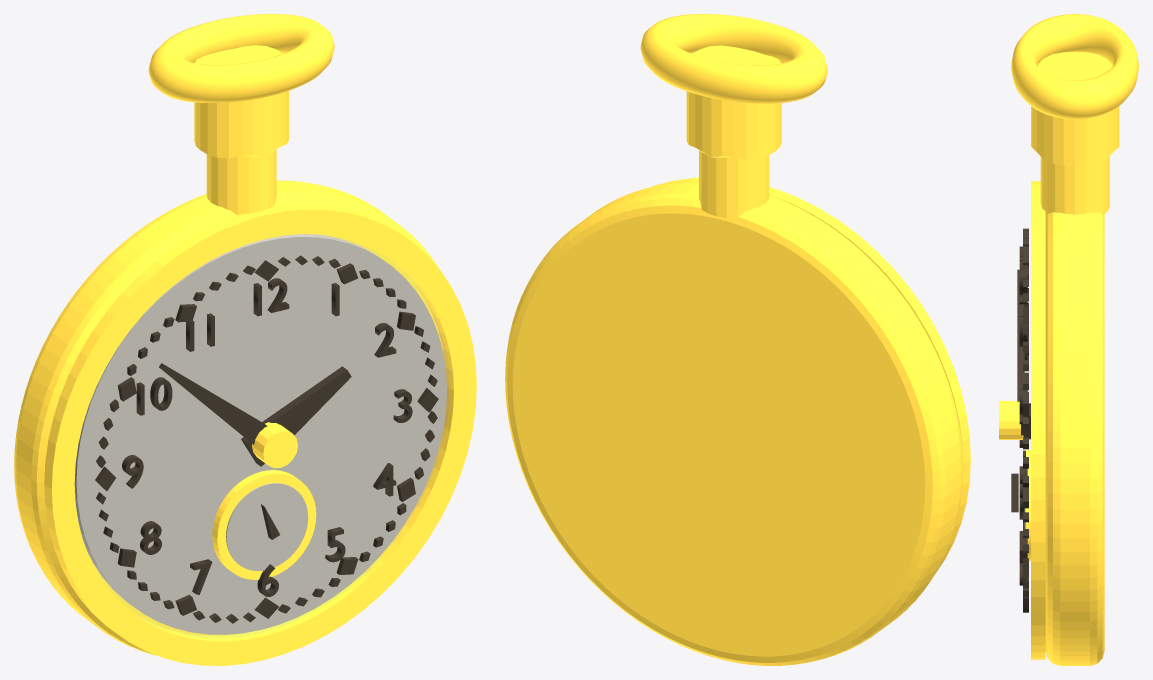
The model's file is pocket_watch.glb.
3 renders of one model, left to right at view 1: azimuth 30°, elevation 25°; view 2: azimuth 150°, elevation 25°; view 3: azimuth 270°, elevation 25°, orthographic. The views are drawn at different scales.
Parts seen in each view (by area): view 1: Dial, Bezel, CaseBody, Bail, Crown, SubDial, Neck, SubBezel, HourHand, MinuteHand, Pivot, Num_10 (+2 smaller); view 2: CaseBody, Bail, Crown, Bezel, Neck; view 3: CaseBody, Bail, Bezel, Crown, Neck, Pivot, MinuteHand, SubBezel, SubHand, Num_12.
Boxes of the visible parts, box(x1,y1,x2,y2) form: Dial: box(74, 234, 446, 634); Bezel: box(44, 204, 476, 665); CaseBody: box(14, 180, 445, 655); Bail: box(148, 14, 334, 102); Crown: box(194, 45, 288, 158); SubDial: box(226, 483, 308, 570); Neck: box(206, 149, 276, 215); SubBezel: box(212, 470, 316, 579); HourHand: box(241, 366, 351, 466); MinuteHand: box(159, 363, 267, 444); Pivot: box(252, 422, 297, 468); Num_10: box(136, 377, 172, 415); CaseBody: box(505, 181, 963, 665); Bail: box(640, 14, 827, 103); Crown: box(686, 45, 781, 159); Bezel: box(652, 177, 970, 575); Neck: box(699, 150, 769, 218); CaseBody: box(1045, 212, 1104, 665); Bail: box(1011, 14, 1138, 119); Bezel: box(1031, 181, 1045, 659); Crown: box(1031, 51, 1119, 165); Neck: box(1040, 156, 1109, 214); Pivot: box(999, 401, 1023, 439); MinuteHand: box(1017, 269, 1024, 401); SubBezel: box(1026, 450, 1030, 561); SubHand: box(1011, 473, 1018, 512); Num_12: box(1019, 260, 1027, 304).
Bounding box in the file's own units: 0.1 × 0.1335 × 0.0285.
